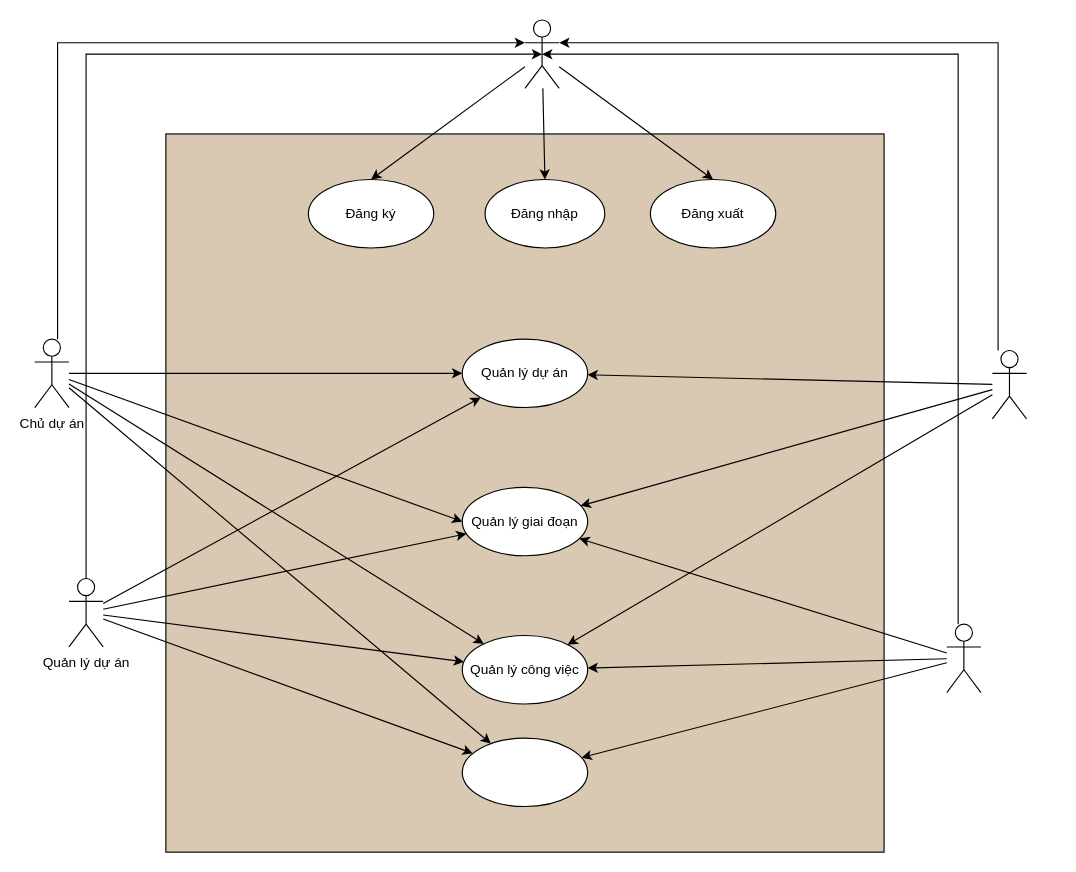
This 1076x872 diagram has some shape labels left out. The centre of each missing label's shape, as x and y in pixels:
"Người giám sát" belongs at point (1009, 384).
"Quản lý thành viên" belongs at point (524, 772).
"Thành viên dự án" belongs at point (963, 658).
"User" belongs at point (541, 53).
